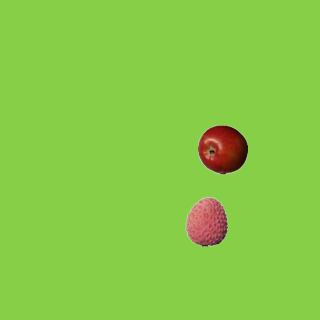Apple Braeburn: (197, 124, 247, 174)
Lychee: (181, 196, 231, 246)
